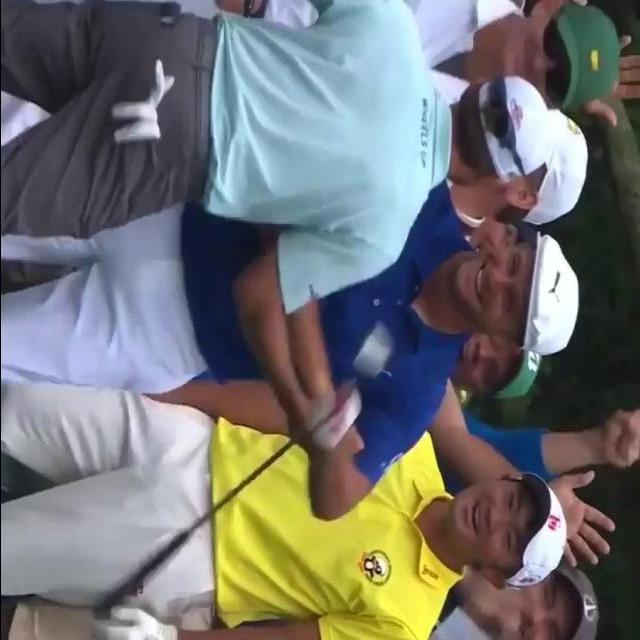golf club-handle: (88, 323, 391, 623)
golf club-head: (346, 324, 392, 382)
